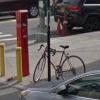Bicycle: (33, 38, 87, 90)
